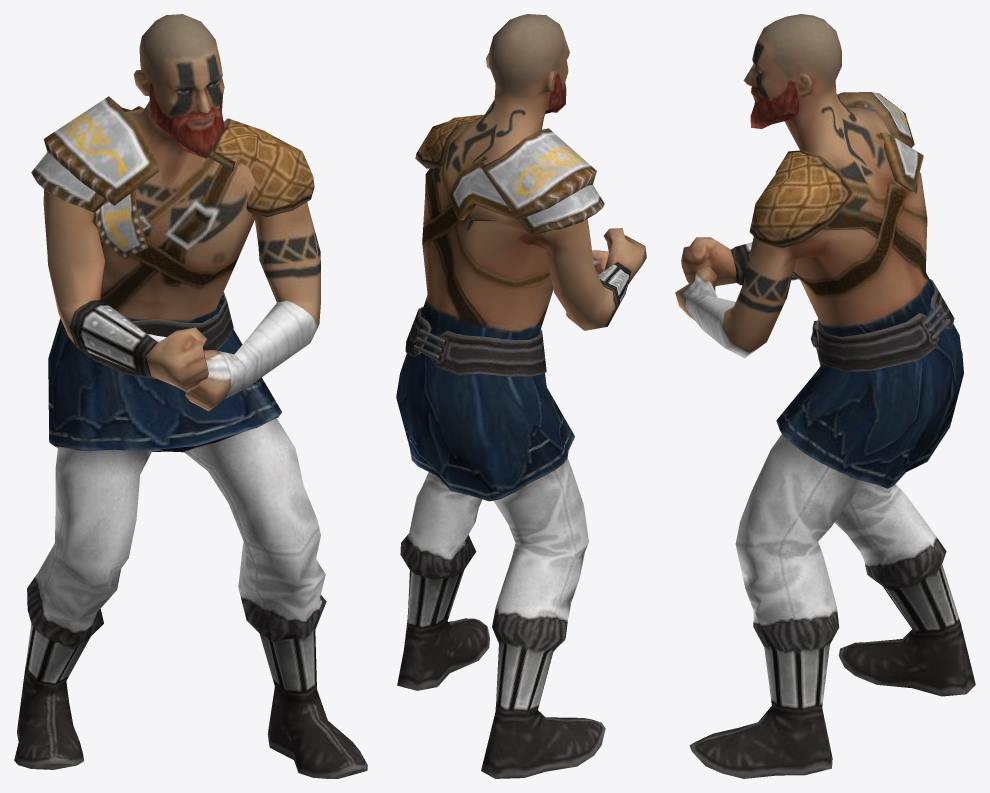
File: body-championinfantry.glb
3 views of the same model, side by side, from view 1: azimuth 30°, elevation 25°; view 2: azimuth 150°, elevation 25°; view 3: azimuth 270°, elevation 25° (orthographic). The views are drawn at different scales.
Bounding box in the file's own units: 0.7065 × 1.93 × 0.7575.
1 material, 1 textured.
